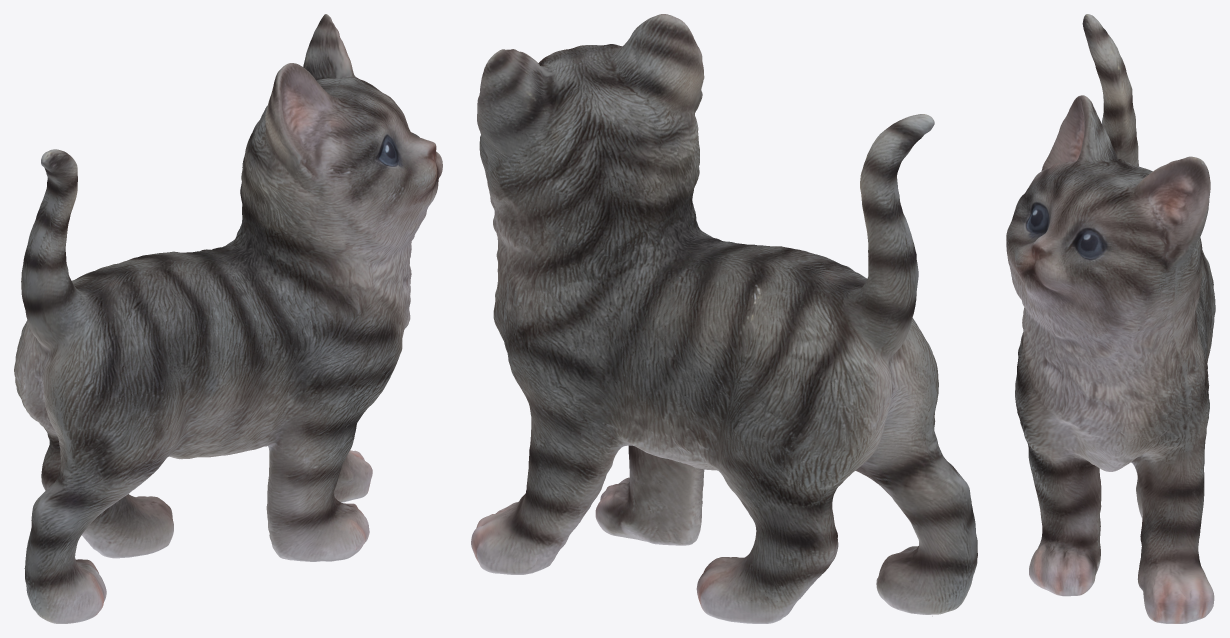
The model's file is cat_ornament.glb.
3 renders of one model, left to right at view 1: azimuth 30°, elevation 25°; view 2: azimuth 150°, elevation 25°; view 3: azimuth 270°, elevation 25°, orthographic. The views are drawn at different scales.
Parts seen in each view (by area): view 1: Object_3, Object_2, Object_4; view 2: Object_2, Object_3, Object_4; view 3: Object_3, Object_2, Object_4.
Part boxes in pixels (x1,y1,x2,y2): Object_3: [14, 14, 438, 507]; Object_2: [17, 14, 442, 623]; Object_4: [14, 316, 408, 613]; Object_2: [471, 14, 977, 623]; Object_3: [477, 15, 959, 616]; Object_4: [474, 320, 975, 612]; Object_3: [1006, 14, 1215, 499]; Object_2: [1014, 95, 1214, 623]; Object_4: [1015, 287, 1215, 609].
Bounding box in the file's own units: 0.2445 × 0.2767 × 0.1109.
Materials: 1 (1 with a texture image).
